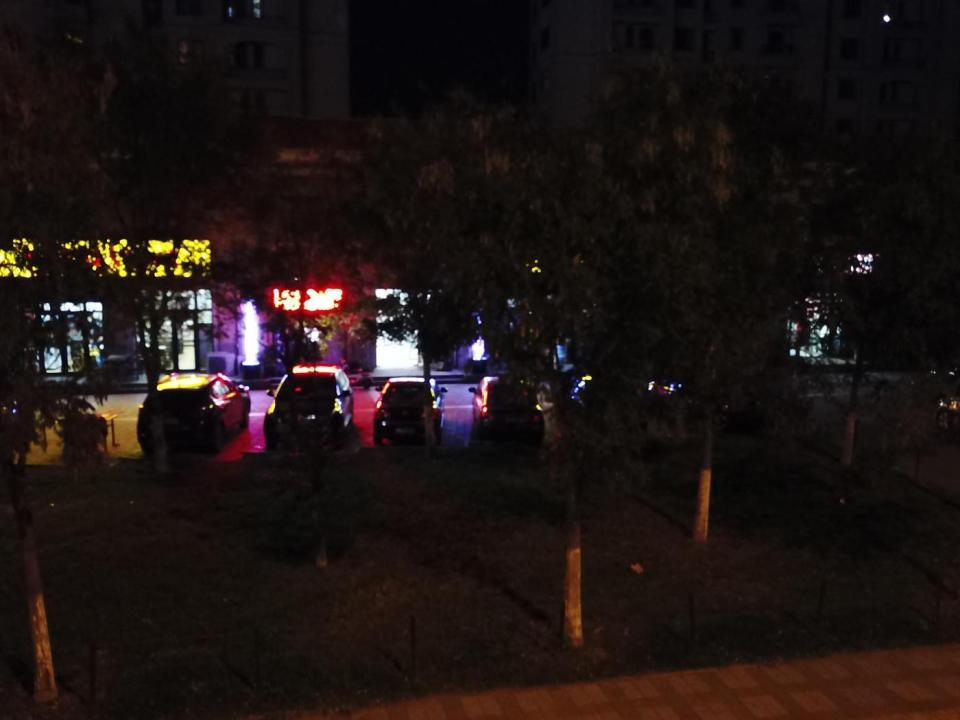car: (136, 370, 251, 455), (264, 363, 354, 448), (372, 377, 449, 444), (561, 360, 634, 424), (630, 352, 700, 408)
